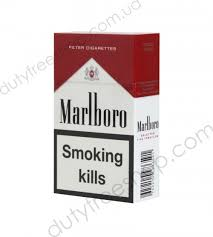marlboro: (54, 34, 136, 201)
